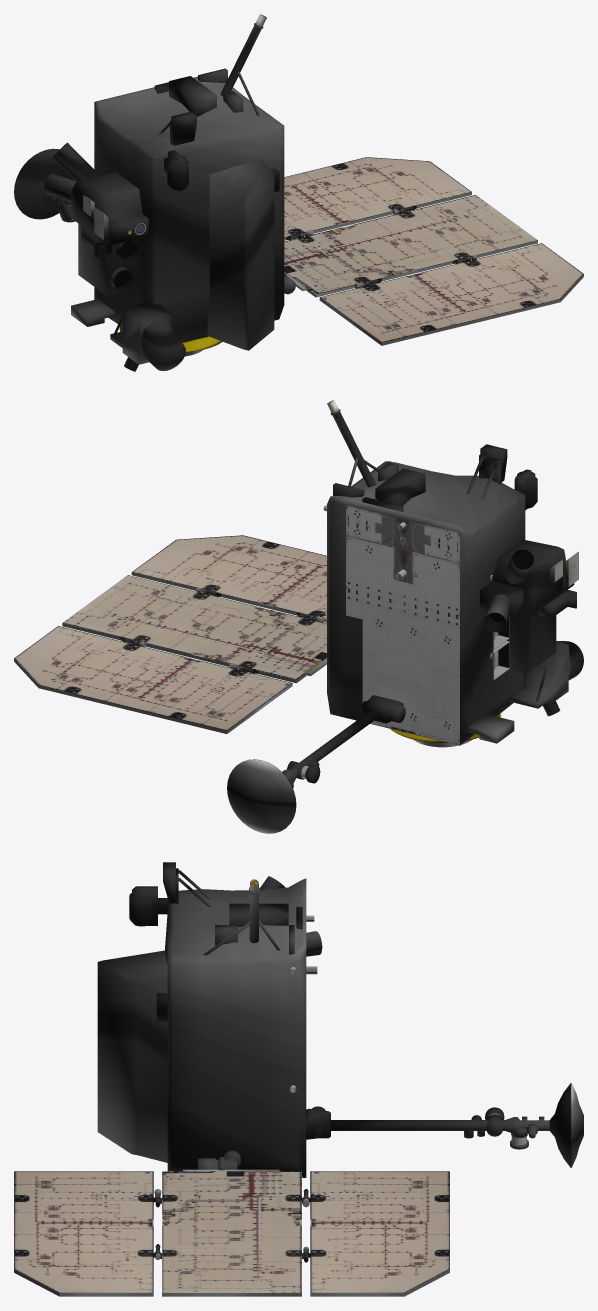
Rendered from lro.glb.
3 renders of one model, top to bottom at view 1: azimuth 30°, elevation 25°; view 2: azimuth 150°, elevation 25°; view 3: azimuth 270°, elevation 25°, orthographic. The views are drawn at different scales.
Parts seen in each view (by area): view 1: bus (×2), solar (×2), hga; view 2: bus (×3), solar (×2), hga (×2); view 3: bus, solar (×2), hga (×2).
Boxes of the visible parts, <box> form: bus (×2): <box>44,14,295,371</box>; solar (×2): <box>284,157,583,345</box>; hga: <box>14,148,75,222</box>; bus (×3): <box>323,400,583,747</box>; solar (×2): <box>14,535,326,733</box>; hga (×2): <box>227,709,378,833</box>; bus: <box>97,862,330,1177</box>; solar (×2): <box>14,1169,449,1296</box>; hga (×2): <box>331,1083,583,1167</box>.
Size of the model in its own units: 5.45 by 3.66 by 5.51.
7 materials, 7 textured.
